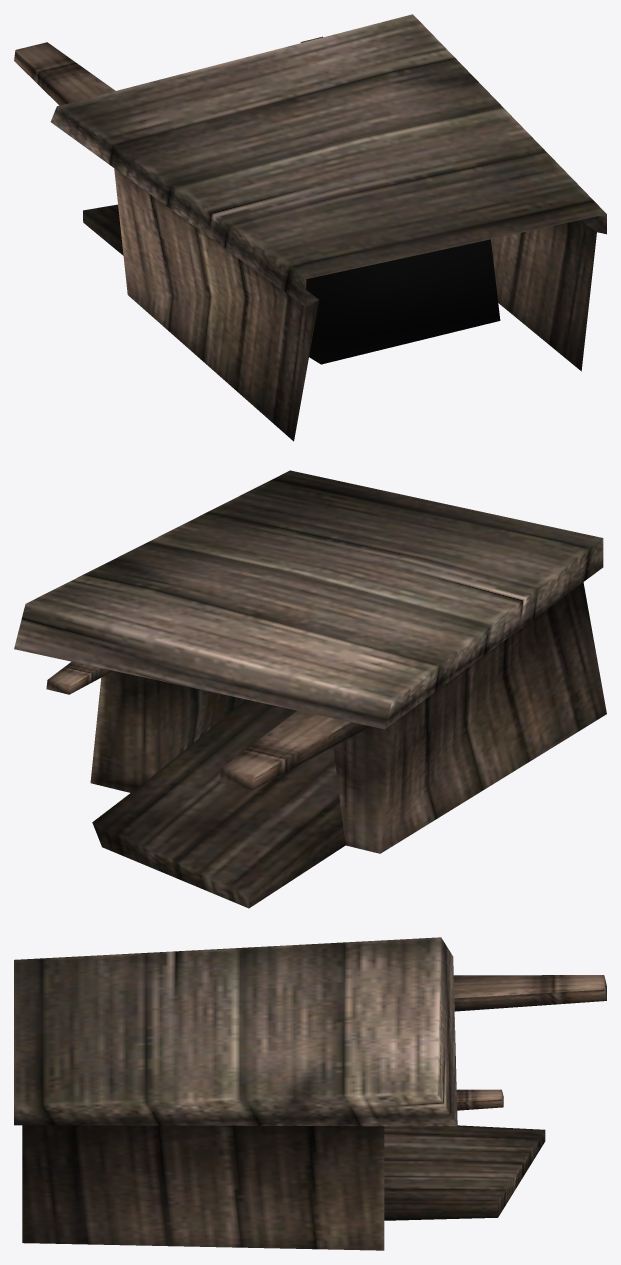
File: stst29.dae
The picture shows the model from 3 angles, top to bottom: view 1: azimuth 30°, elevation 25°; view 2: azimuth 150°, elevation 25°; view 3: azimuth 270°, elevation 25°; orthographic projection. The views are drawn at different scales.
Parts seen in each view (by area): view 1: mine00; view 2: mine00; view 3: mine00.
Boxes of the visible parts, bbox=[...] form: mine00: bbox=[14, 14, 606, 441]; mine00: bbox=[14, 470, 606, 908]; mine00: bbox=[14, 937, 606, 1250].
Size of the model in its own units: 0.8944 by 1.38 by 0.4449.
1 material, 1 textured.
